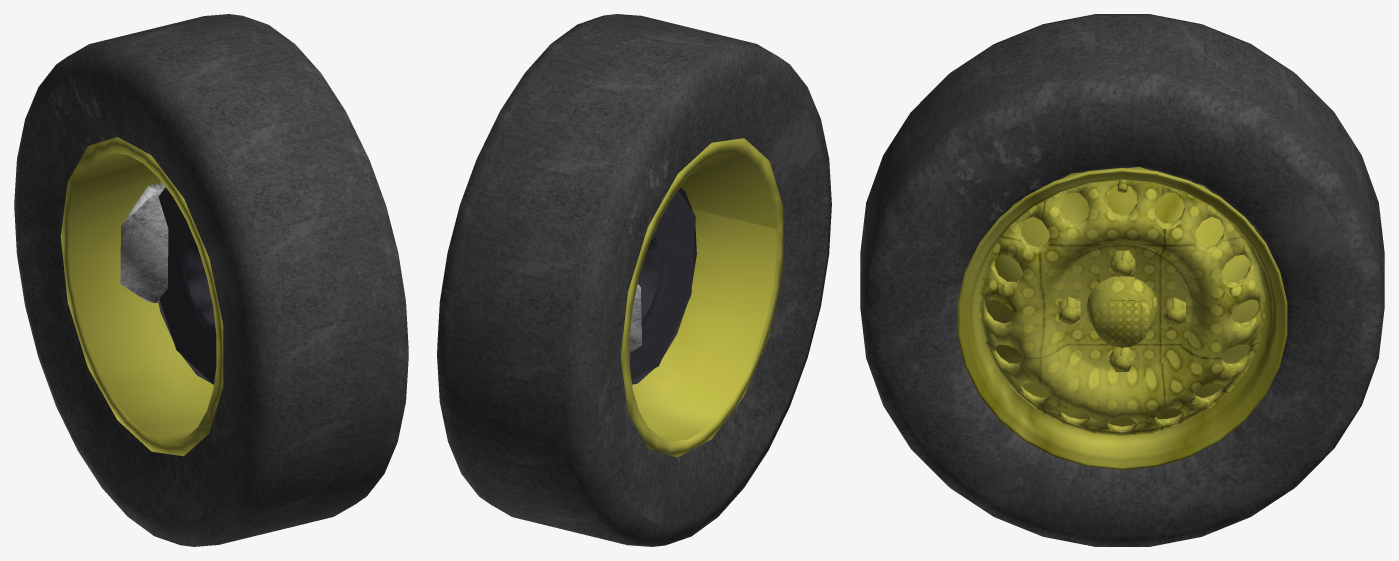
File: llantaT1.obj
3 views of the same model, side by side, from view 1: azimuth 30°, elevation 25°; view 2: azimuth 150°, elevation 25°; view 3: azimuth 270°, elevation 25° (orthographic).
Visible parts, largest first — view 1: llantaT1_tire, llantaT1_rims, llantaT1_disk, llantaT1_caliper; view 2: llantaT1_tire, llantaT1_rims, llantaT1_disk, llantaT1_caliper; view 3: llantaT1_tire, llantaT1_rims.
Boxes of the visible parts, left/top/right/bottom form: llantaT1_tire: left=14, top=14, right=408, bottom=546; llantaT1_rims: left=60, top=137, right=223, bottom=456; llantaT1_disk: left=158, top=187, right=216, bottom=384; llantaT1_caliper: left=120, top=182, right=168, bottom=302; llantaT1_tire: left=437, top=14, right=831, bottom=546; llantaT1_rims: left=621, top=138, right=783, bottom=457; llantaT1_disk: left=629, top=187, right=696, bottom=384; llantaT1_caliper: left=629, top=284, right=642, bottom=353; llantaT1_tire: left=860, top=14, right=1384, bottom=546; llantaT1_rims: left=957, top=167, right=1287, bottom=469.
Bounding box in the file's own units: 0.9345 × 2.55 × 2.56.
